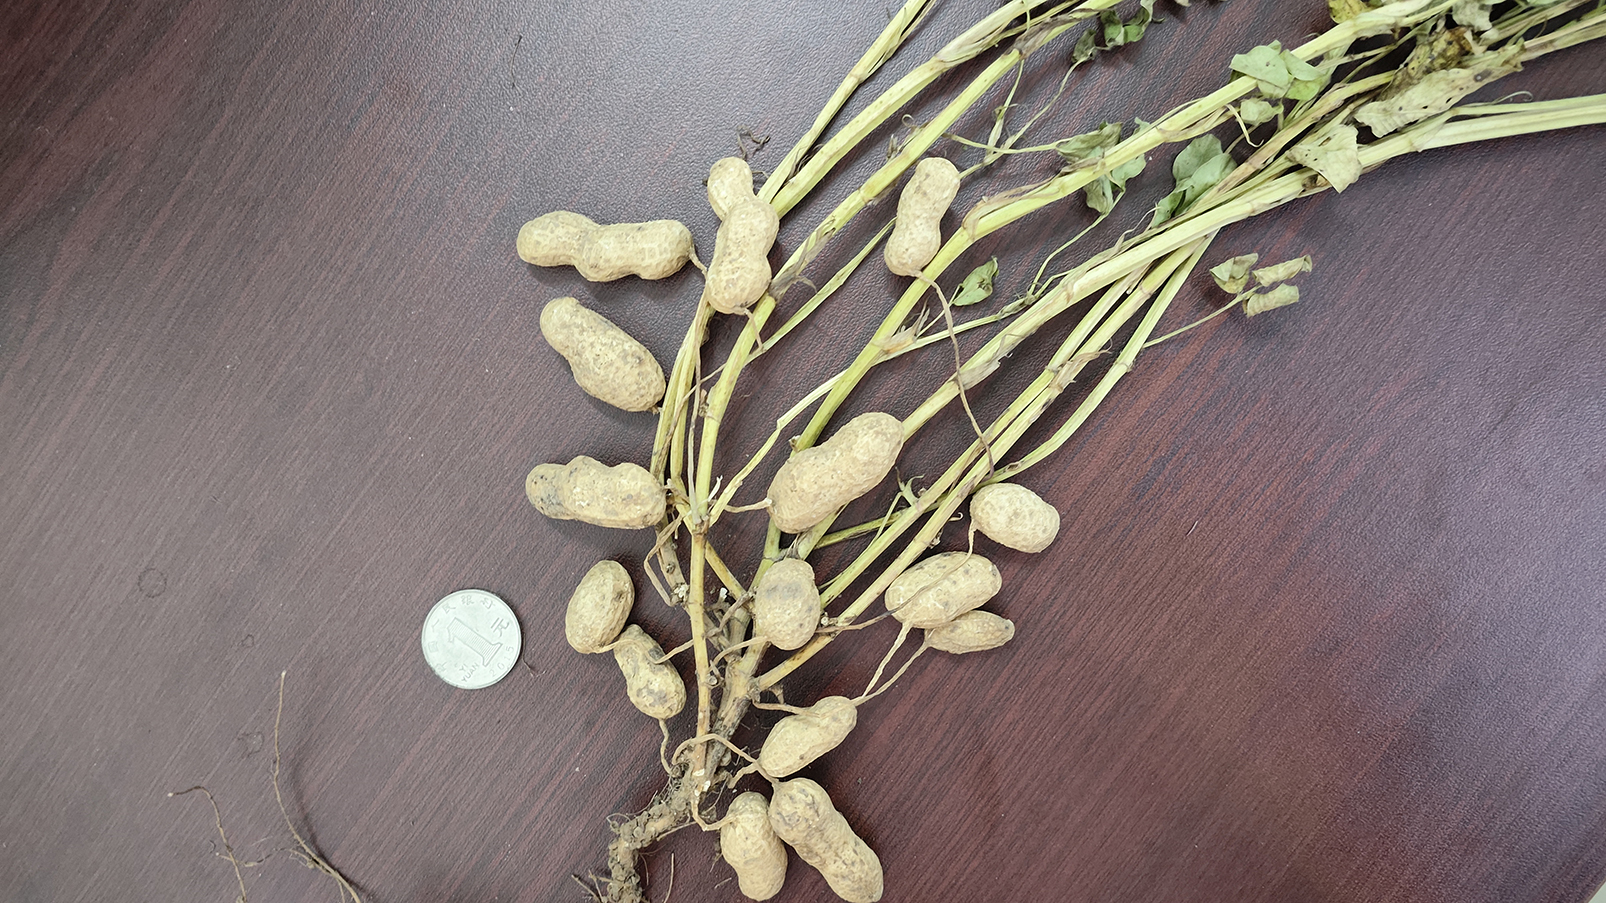h: (767, 410, 904, 534), (540, 295, 666, 411), (770, 778, 885, 903), (516, 208, 692, 282), (705, 157, 780, 312), (520, 454, 666, 527), (887, 550, 1003, 628), (887, 154, 961, 276), (759, 696, 858, 777), (719, 792, 788, 902), (564, 557, 634, 655), (613, 626, 687, 718), (970, 483, 1061, 553), (754, 558, 822, 651), (922, 609, 1017, 655)
